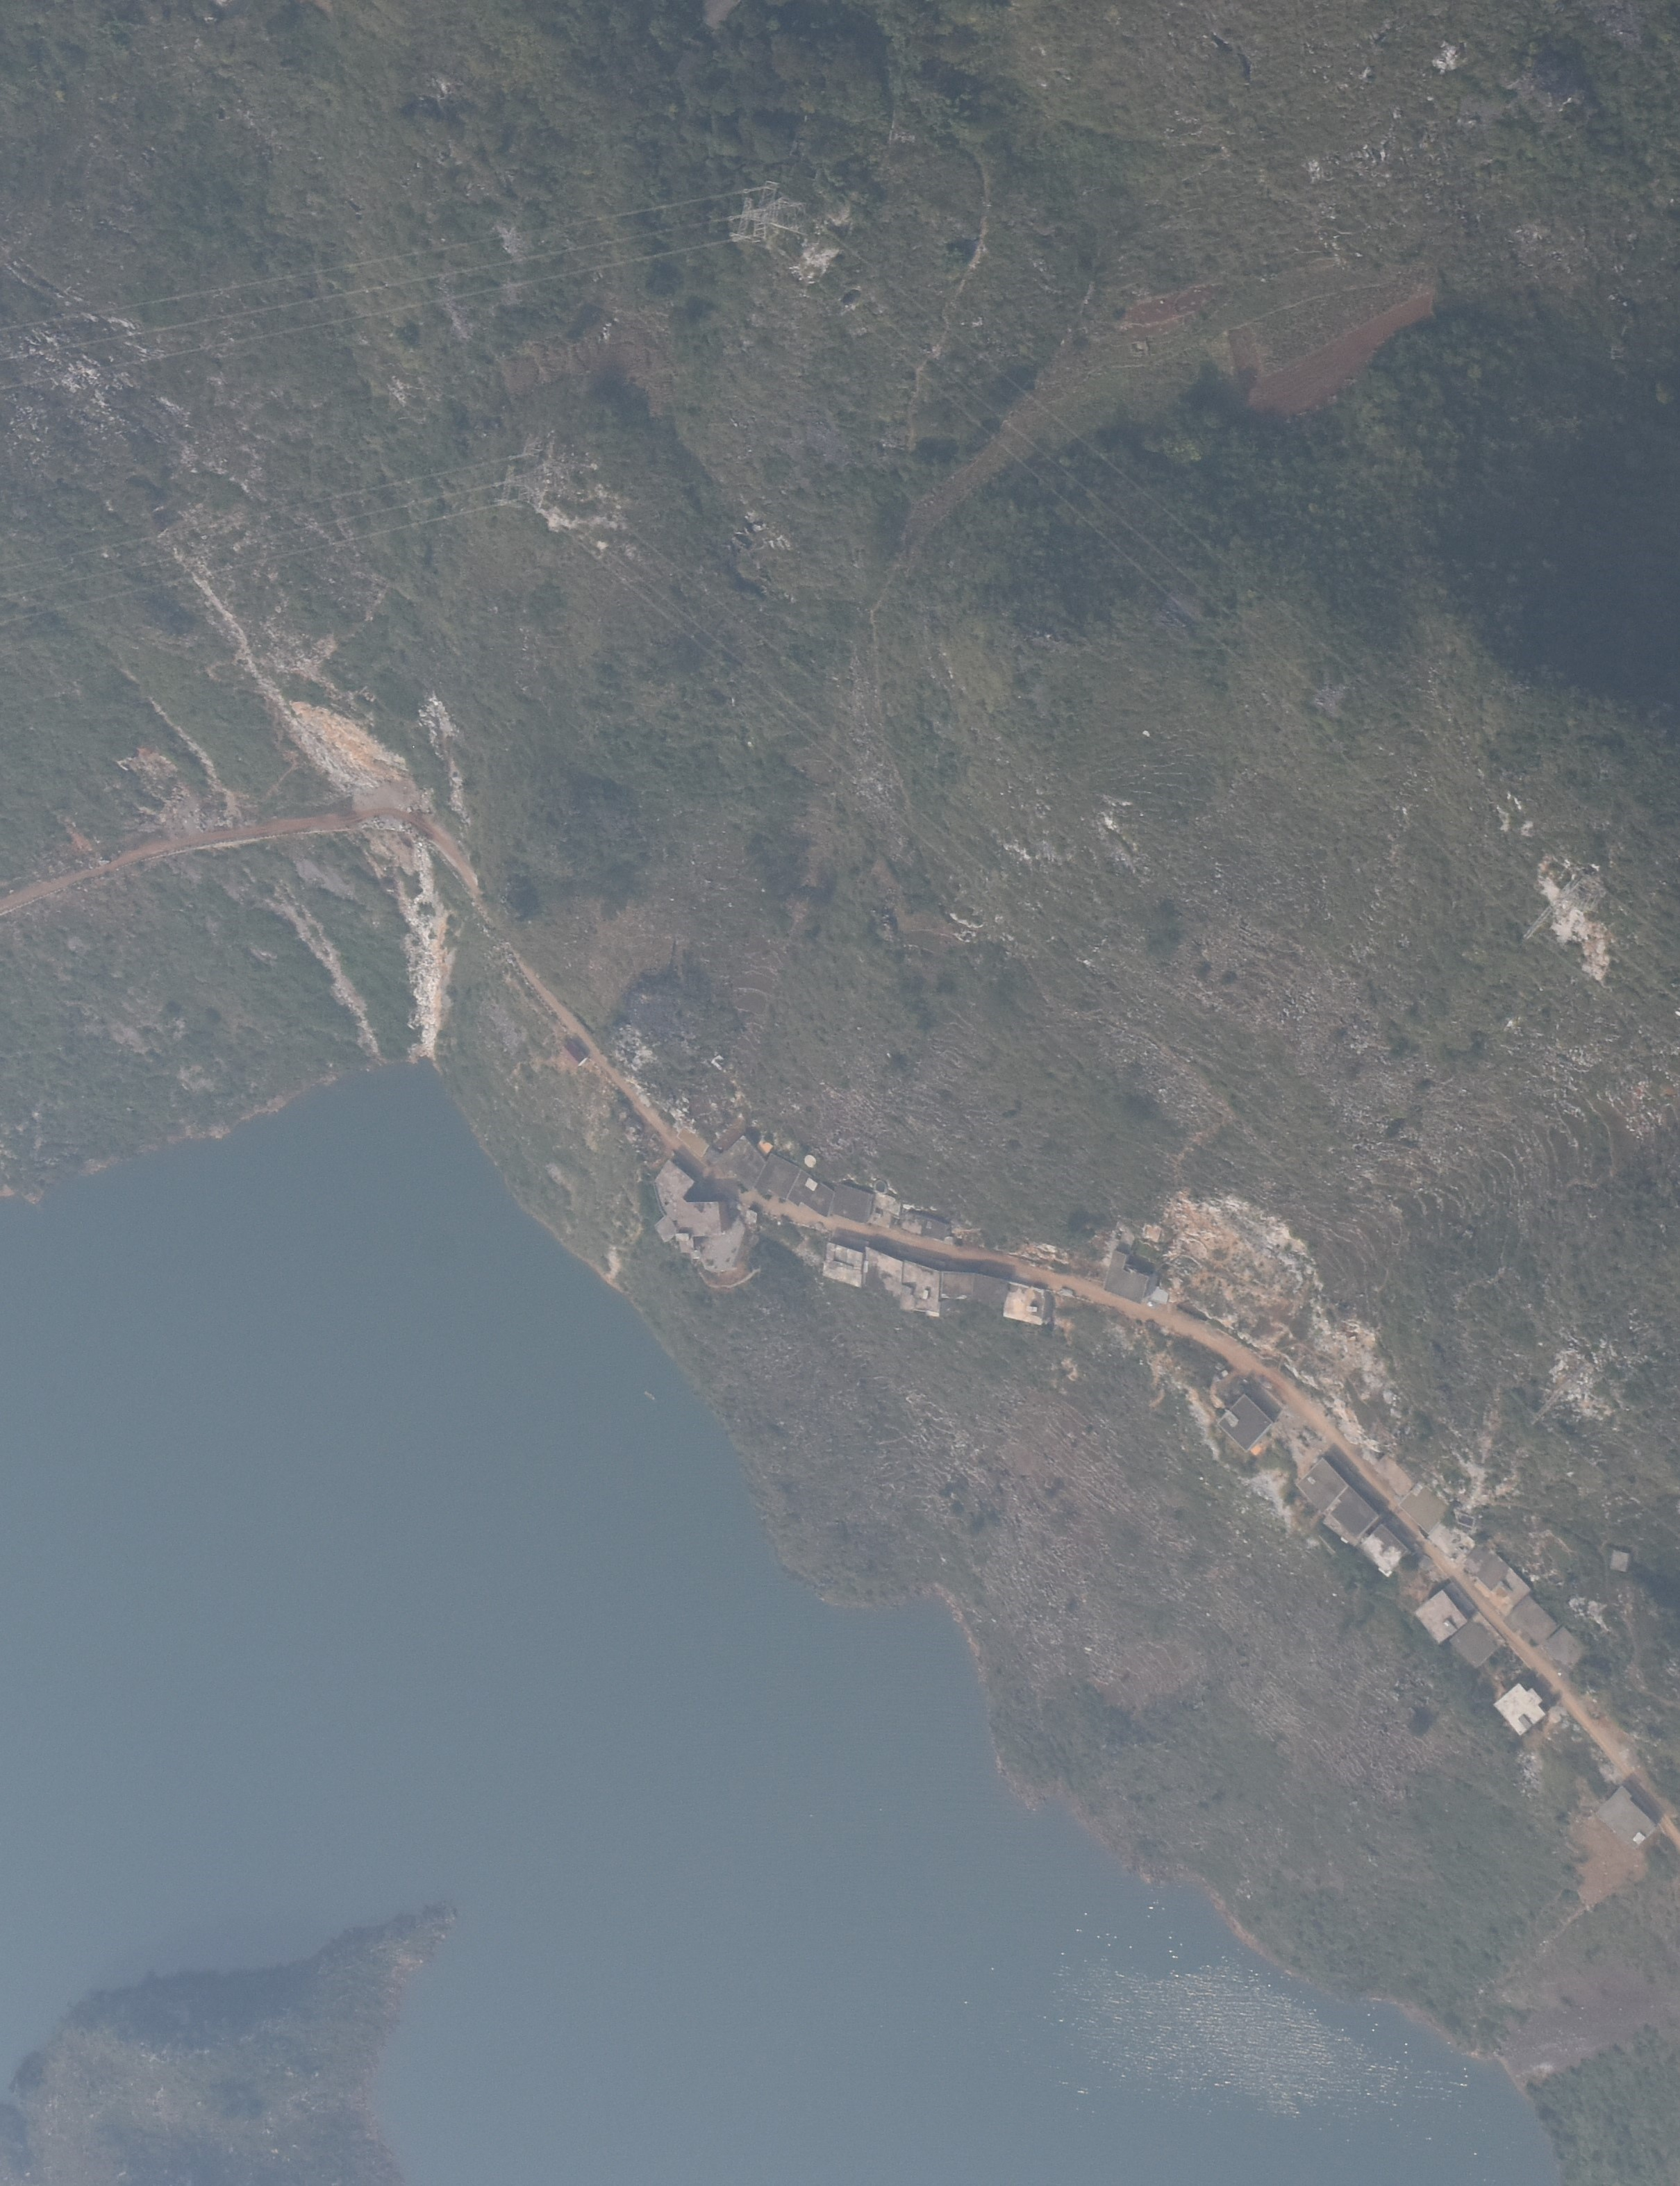building: (1295, 1458, 1380, 1544), (1595, 1785, 1660, 1848), (1461, 1542, 1532, 1599), (1217, 1392, 1277, 1453), (1102, 1249, 1160, 1304), (1494, 1682, 1549, 1736), (1414, 1590, 1469, 1644), (1398, 1484, 1456, 1534), (719, 1133, 767, 1193), (1450, 1618, 1503, 1667), (1508, 1595, 1561, 1644), (1359, 1524, 1409, 1575), (899, 1258, 941, 1319), (1003, 1281, 1056, 1326), (754, 1152, 802, 1201), (1544, 1625, 1589, 1670), (675, 1201, 735, 1235), (822, 1241, 865, 1287), (831, 1183, 875, 1225), (654, 1158, 697, 1200), (941, 1269, 976, 1300), (560, 1041, 588, 1065), (1606, 1549, 1630, 1574)
cable-tower: (497, 430, 579, 514), (1525, 1358, 1608, 1433), (1522, 871, 1607, 942), (729, 179, 806, 245)
landslide: (359, 830, 451, 1060), (288, 698, 412, 794)
pool: (874, 1178, 887, 1194)
well: (804, 1154, 816, 1167)
